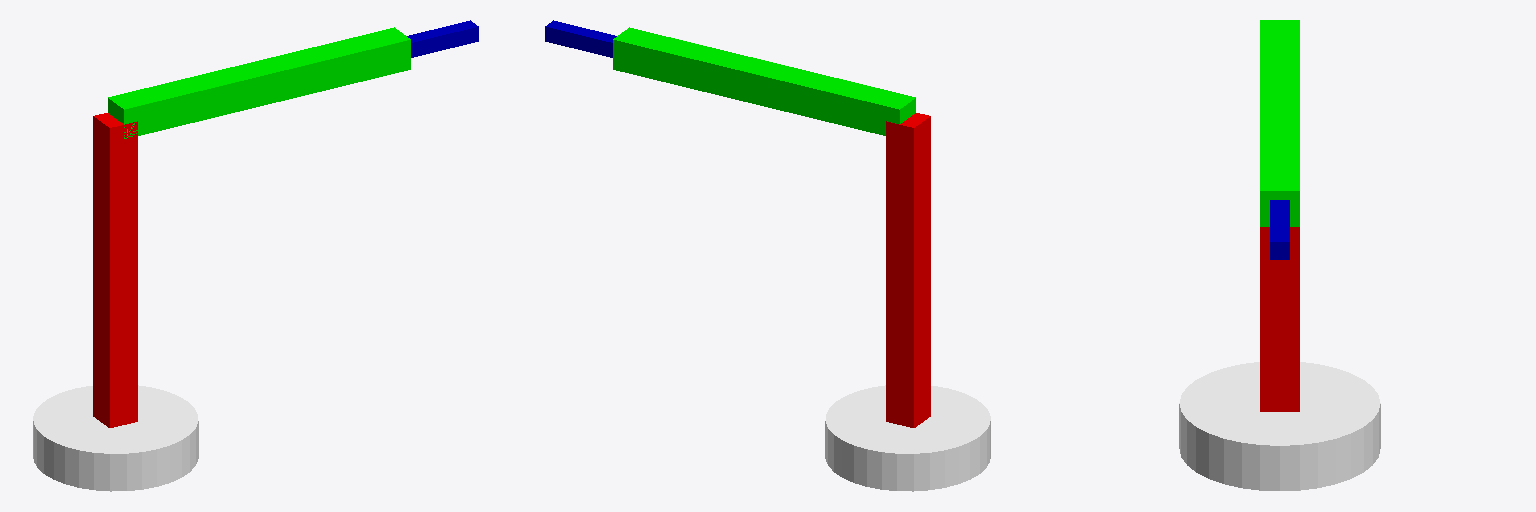
The robot description file, URDF, robot "RRP":
<?xml version="1.0"?>
<robot name="RRP">

	<material name="blue">
        <color rgba="0 0 0.8 1"/>
	</material>

	<material name="white">
        <color rgba="1 1 1 1"/>
	</material>

	<material name="red">
        <color rgba="1 0 0 0.8" />
	</material>

	<material name="green">
        <color rgba="0 1 0 0.8" />
	</material>


	<link name="base_link">
        <visual>
            <geometry>
                <cylinder length="0.5" radius="1"/>
            </geometry>
            <material name="white"/>
        </visual>
        <collision>
            <geometry>
               <cylinder length="0.5" radius="1"/>
            </geometry>
        </collision>
	</link>

	<link name="rotatable1">
        <visual>
            <geometry>
                <box size="0.4 0.4 4"/>
            </geometry>
            <origin xyz="0 0 2"/>
            <material name="red"/>
        </visual>
        <collision>
            <geometry>
               <box size="0.4 0.4 4"/>
            </geometry>
        </collision>
	</link>

    <joint name="base_link_to_rotatable_1" type="revolute">
        <axis xyz="0 1 0"/>
        <limit effort="1000.0" lower="0.0" upper="1" velocity="0.5"/>
        <parent link="base_link"/>
        <child link="rotatable1"/>
        <origin xyz="0 0 0.25"/>
	</joint>

    <link name="rotatable2">
        <visual>
            <geometry>
                <box size="4 0.4 0.4"/>
            </geometry>
            <origin xyz="2 0 0"/>
            <material name="green"/>
         </visual>
       <collision>
            <geometry>
               <box size="4 0.4 0.4"/>
            </geometry>
       </collision>

	</link>

	<joint name="rotatable_1_to_rotatable_2" type="revolute">
        <axis xyz="0 1 0"/>
        <limit effort="1000.0" lower="0.0" upper="1" velocity="0.5"/>
        <parent link="rotatable1"/>
        <child link="rotatable2"/>
        <origin xyz="0 0 4"/>
	</joint>

    <link name="prismatic">
        <visual>
            <geometry>
                <box size="2 0.2 0.2"/>
            </geometry>
            <origin xyz="1 0 0"/>
            <material name="blue"/>
        </visual>
       <collision>
            <geometry>
               <box size="2 0.2 0.2"/>
            </geometry>
       </collision>
	</link>

	<joint name="rotatable_2_to_prismatic" type="prismatic">
        <parent link="rotatable2"/>
        <child link="prismatic"/>
        <limit effort="1000.0" lower="-1" upper="1" velocity="0.5"/>
        <origin xyz="3 0 0"/>
	</joint>

	<link name="end_link"/>

	<joint name="prismatic_to_end_link" type="fixed">
        <parent link="prismatic"/>
        <child link="end_link"/>
        <origin xyz="1 0 0"/>
	</joint>
    
</robot>

--- Facts derived from the render (not from the file) ---
3 views of the same robot in one strip: view 1: azimuth 30°, elevation 25°; view 2: azimuth 150°, elevation 25°; view 3: azimuth 270°, elevation 25° (orthographic).
Robot: RRP — 5 links, 4 joints (2 revolute, 1 prismatic, 1 fixed); root link base_link; default pose: every joint at zero.
Visible links, largest first — view 1: rotatable1, base_link, rotatable2, prismatic; view 2: rotatable1, base_link, rotatable2, prismatic; view 3: base_link, rotatable2, rotatable1, prismatic.
Link boxes in pixels (x1,y1,x2,y2): rotatable1: (93, 113, 137, 427); base_link: (33, 385, 198, 491); rotatable2: (108, 27, 410, 138); prismatic: (407, 20, 478, 57); rotatable1: (886, 113, 930, 427); base_link: (825, 385, 990, 491); rotatable2: (613, 27, 915, 135); prismatic: (545, 20, 616, 57); base_link: (1179, 362, 1380, 490); rotatable2: (1260, 20, 1299, 226); rotatable1: (1260, 227, 1299, 411); prismatic: (1270, 200, 1289, 259).
Bounding box of the posed robot: 6 × 2 × 4.7 m (x, y, z).
Geometry: primitives only (box / cylinder / sphere), no mesh files.